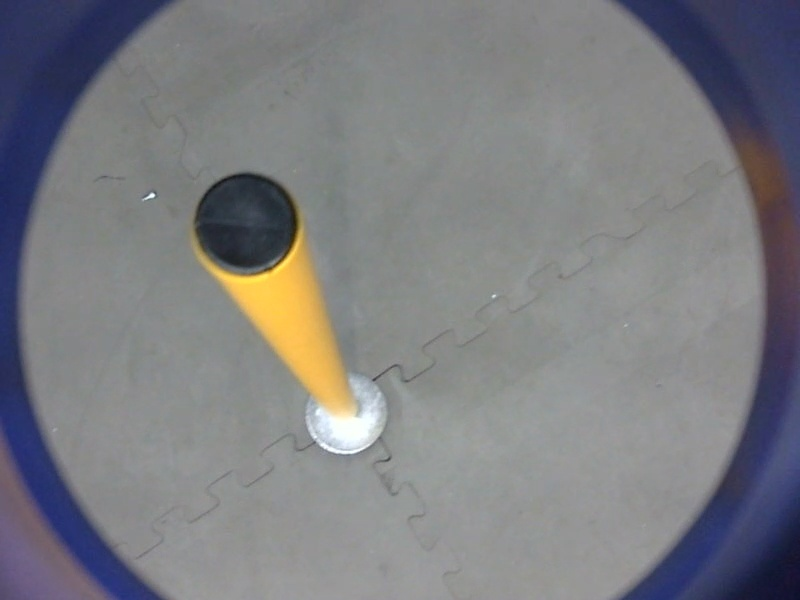tip: (182, 165, 308, 288)
